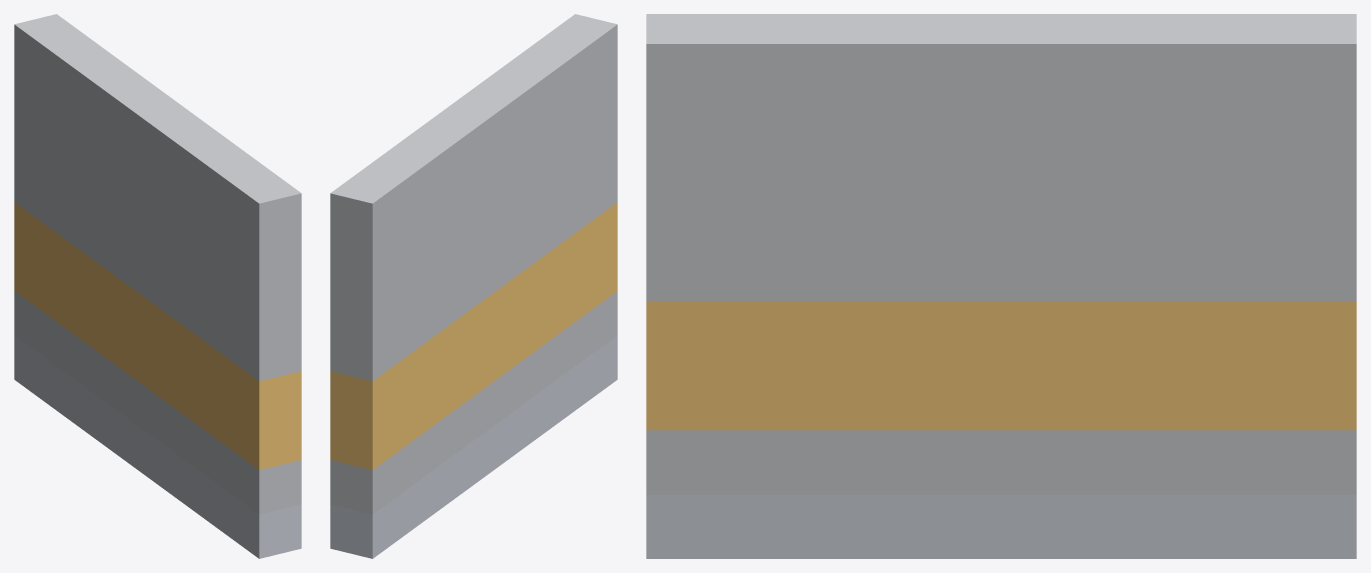
The model's file is corridor_wall.glb.
The picture shows the model from 3 angles, left to right: view 1: azimuth 30°, elevation 25°; view 2: azimuth 150°, elevation 25°; view 3: azimuth 270°, elevation 25°; orthographic projection. The views are drawn at different scales.
Visible parts, largest first — view 1: corridor_wall; view 2: corridor_wall; view 3: corridor_wall.
Boxes of the visible parts, x1,y1,x2,y2 form: corridor_wall: (14,14,301,558); corridor_wall: (330,14,617,558); corridor_wall: (646,14,1356,558).
Bounding box in the file's own units: 0.1 × 0.8 × 1.
